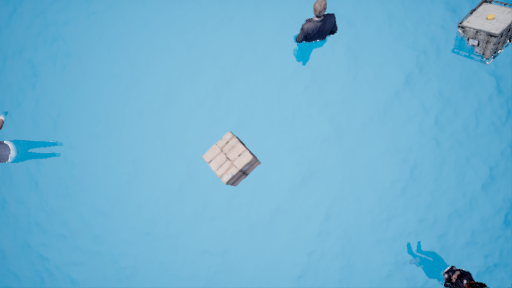person: (294, 3, 335, 72)
